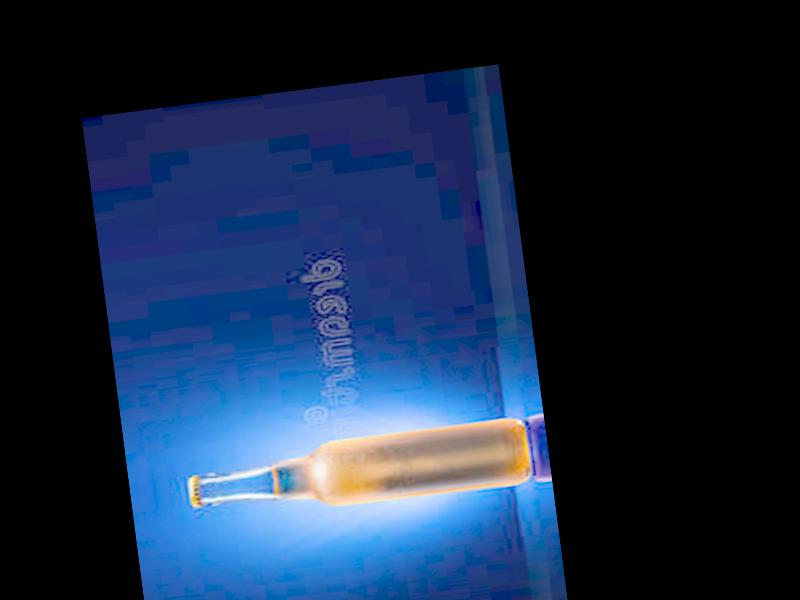Beer: (184, 414, 532, 529)
